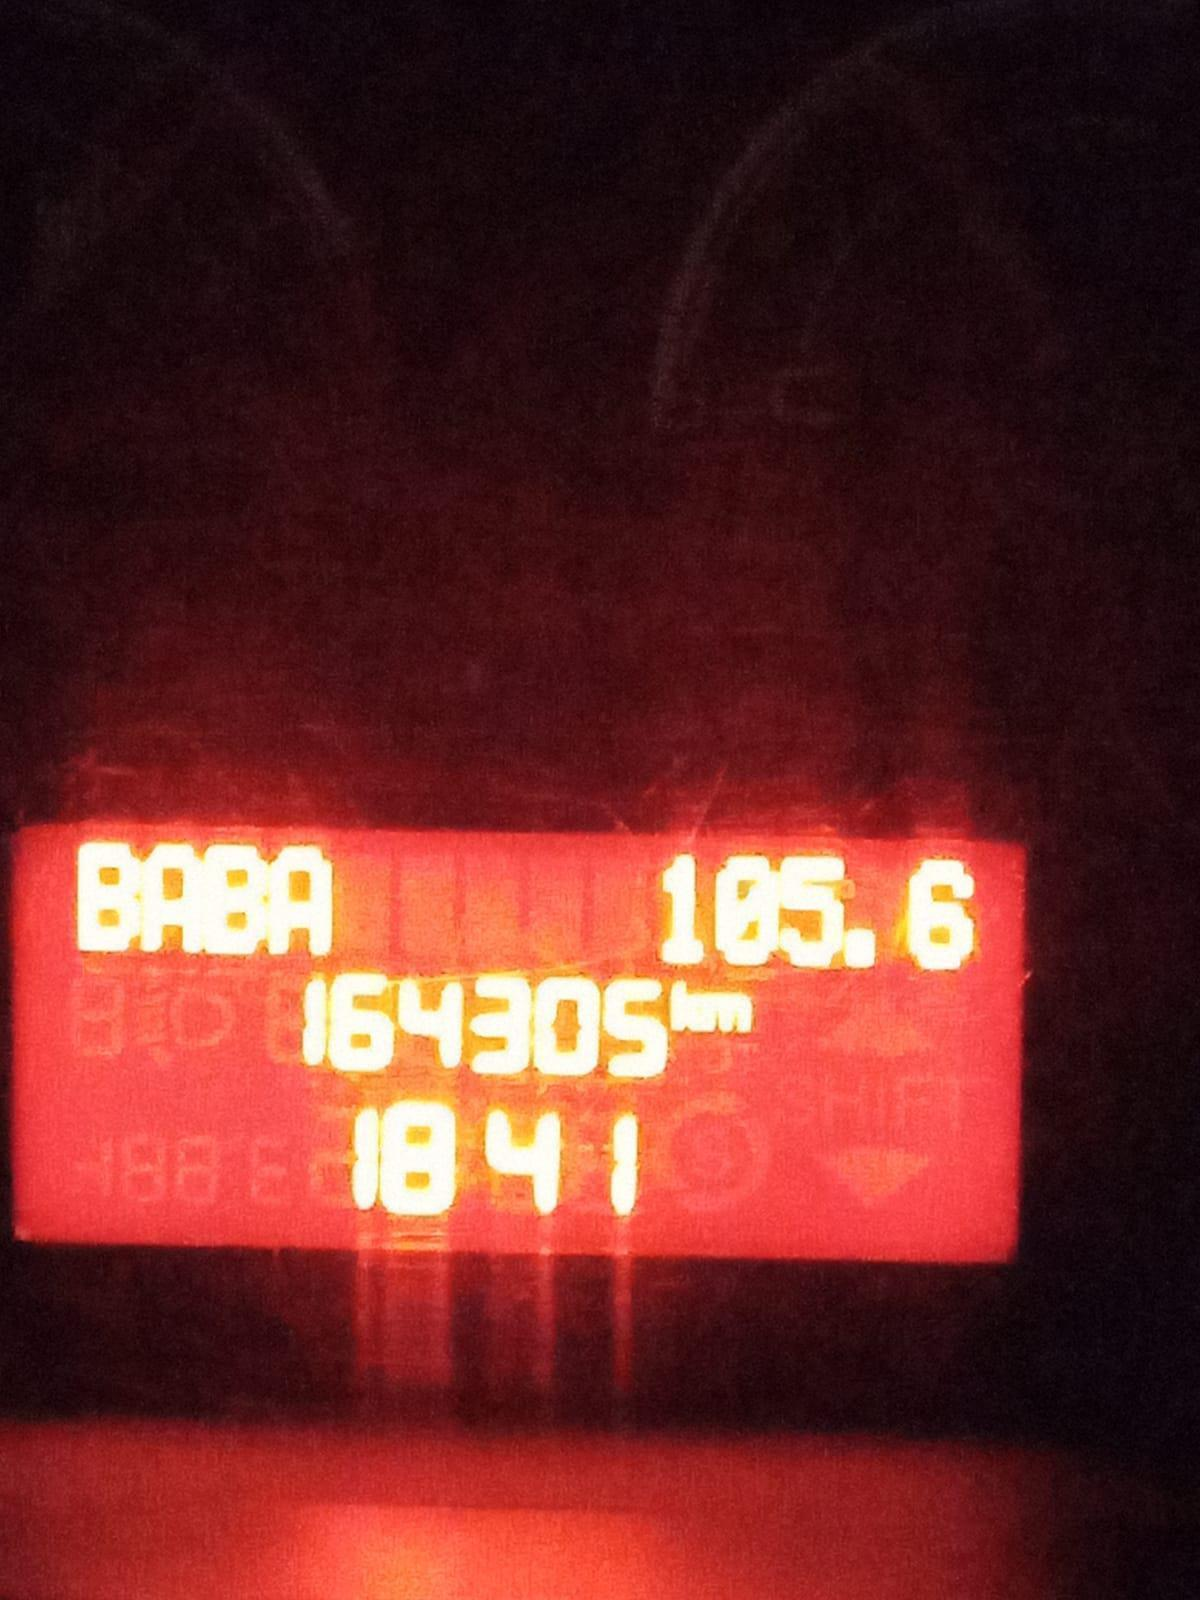,: (842, 918, 885, 978)
0: (712, 848, 776, 975), (534, 968, 595, 1082)
1: (596, 1100, 661, 1227), (649, 847, 708, 975), (345, 1099, 377, 1230), (291, 974, 326, 1082)
3: (473, 963, 534, 1082)
4: (482, 1099, 575, 1221), (400, 969, 470, 1067)
5: (779, 848, 847, 985), (600, 973, 669, 1078)
6: (899, 844, 989, 976), (330, 963, 395, 1078)
8: (379, 1092, 458, 1223)
X: (270, 840, 337, 959), (202, 840, 266, 960), (74, 831, 135, 957), (141, 840, 199, 963), (710, 985, 756, 1036), (669, 976, 708, 1033)
odometer: (11, 803, 1051, 1280)
